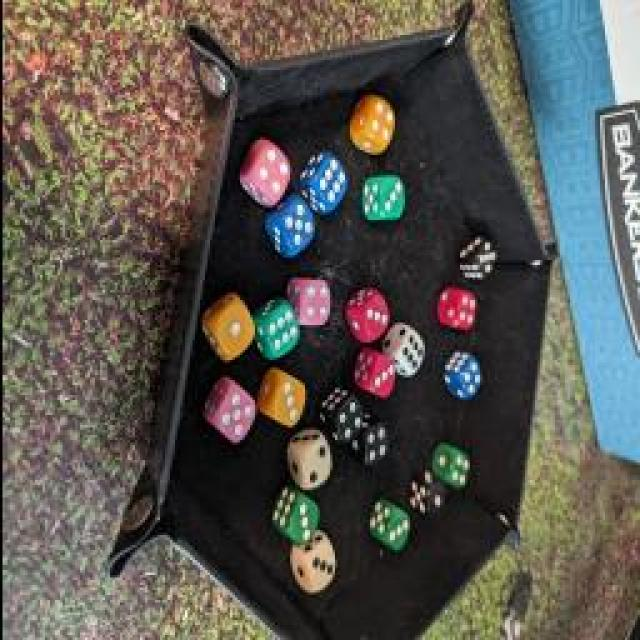dice_1: (200, 290, 255, 365), (409, 464, 441, 524)
dice_2: (285, 426, 333, 496)
dice_3: (230, 135, 290, 213), (254, 366, 304, 439), (268, 484, 322, 548), (288, 532, 338, 596), (356, 170, 406, 230), (347, 342, 395, 402), (365, 498, 410, 558), (344, 286, 391, 342)
dice_4: (342, 92, 396, 162), (278, 272, 332, 332), (318, 389, 364, 449), (345, 418, 387, 468), (436, 283, 476, 335), (441, 355, 484, 400), (434, 444, 471, 488)
dice_5: (205, 374, 255, 448), (265, 194, 315, 258), (456, 232, 496, 278)
dice_6: (298, 152, 348, 216), (252, 298, 300, 358), (382, 322, 426, 382)
